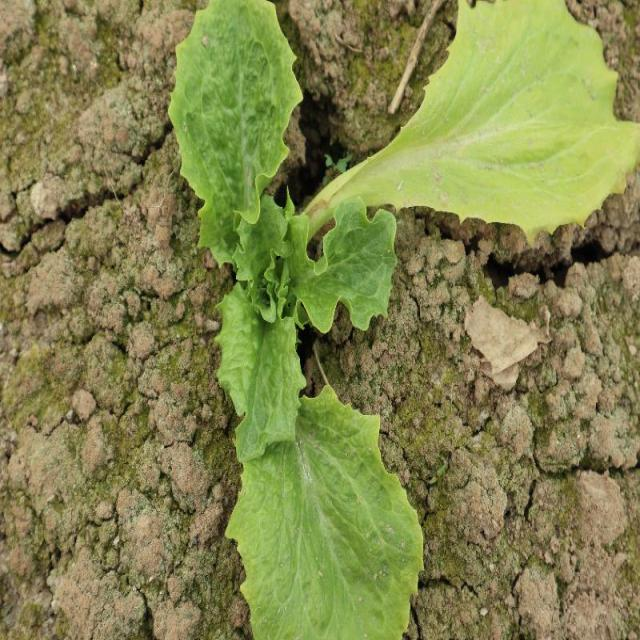crop: (168, 1, 426, 640)
